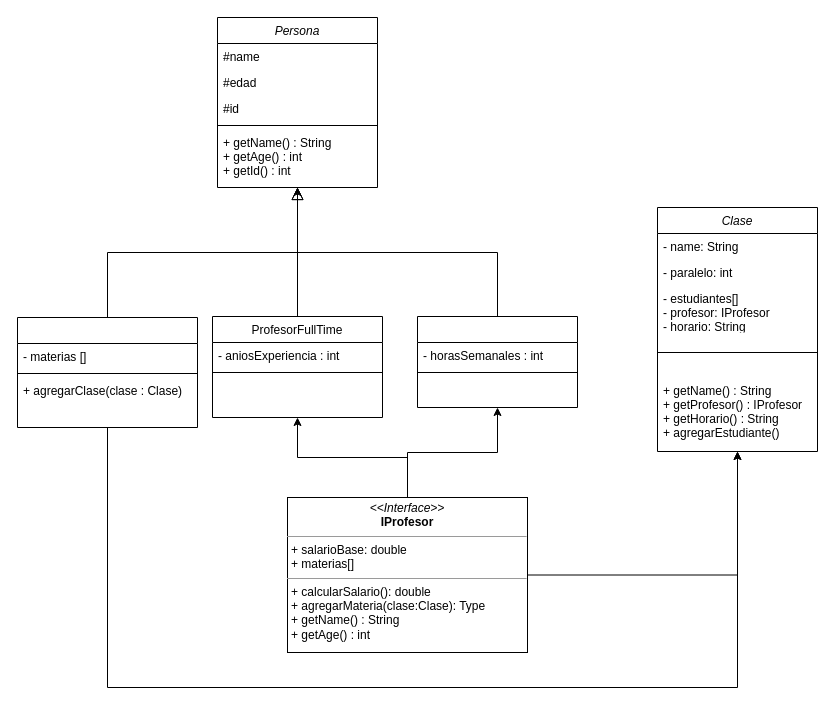
The diagram is 835 pixels wide and 713 high, and some of its shapes have lost their labels. Here are the shapes that lost their labels. From the top down, the box of each, then its label:
(16, 316, 198, 428): Estudiante
(416, 316, 578, 408): ProfesorPartTime
